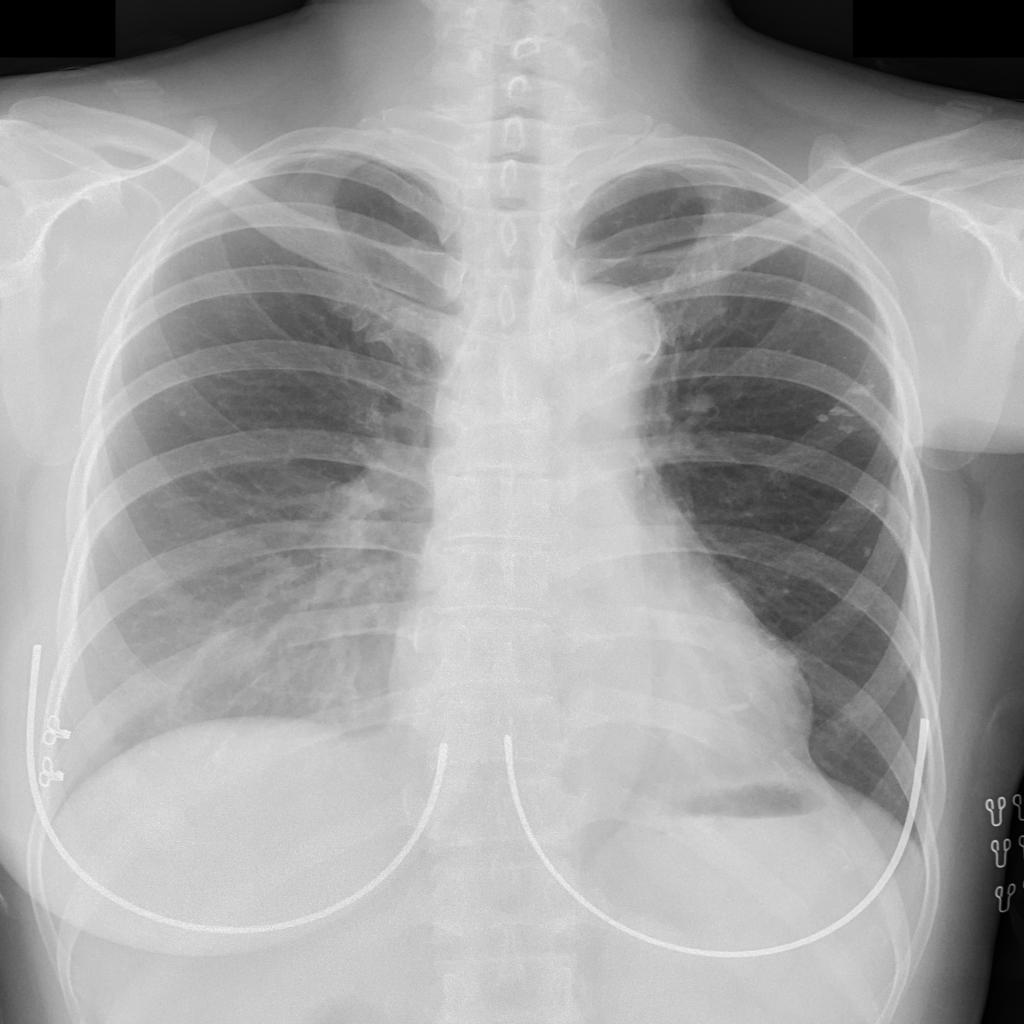Nodule: (813, 380, 878, 438), (863, 546, 873, 557)
